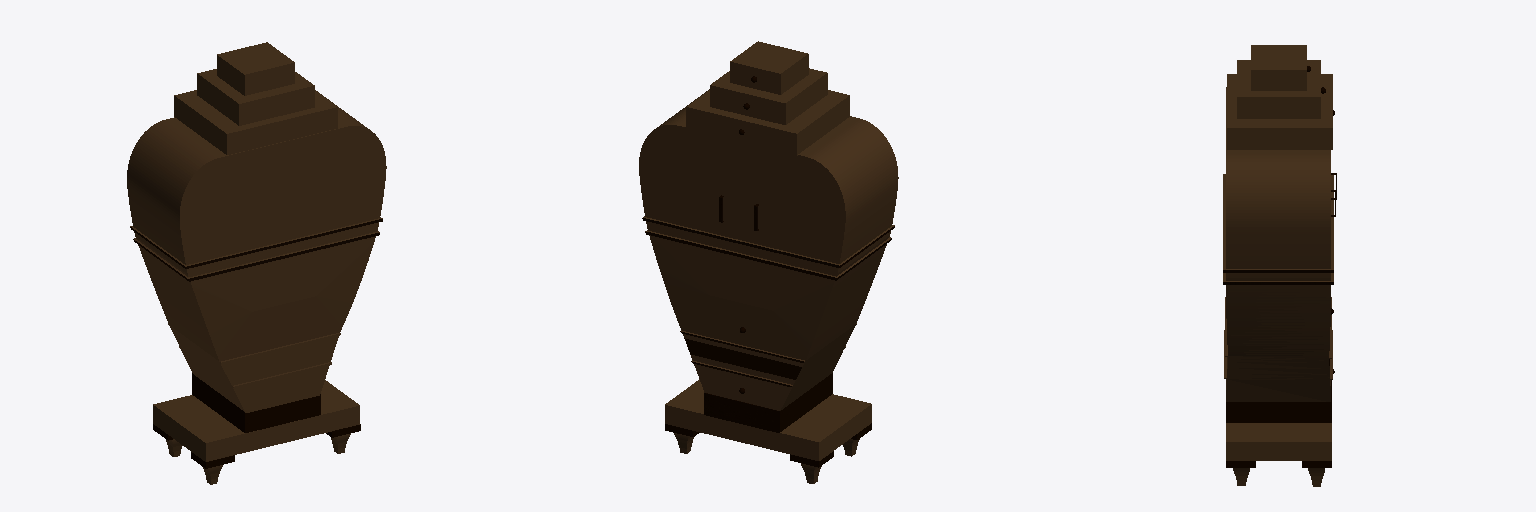
3 views of the same model, side by side, from view 1: azimuth 30°, elevation 25°; view 2: azimuth 150°, elevation 25°; view 3: azimuth 270°, elevation 25° (orthographic).
Visible parts, largest first — view 1: Cube.008_Cube.001; view 2: Cube.008_Cube.001; view 3: Cube.008_Cube.001.
Part boxes in pixels (bbox=[...]): Cube.008_Cube.001: bbox=[127, 42, 386, 484]; Cube.008_Cube.001: bbox=[639, 41, 898, 483]; Cube.008_Cube.001: bbox=[1223, 45, 1336, 486].
Bounding box in the file's own units: 0.3285 × 0.6011 × 0.1561.
Materials: 4 (2 with a texture image).